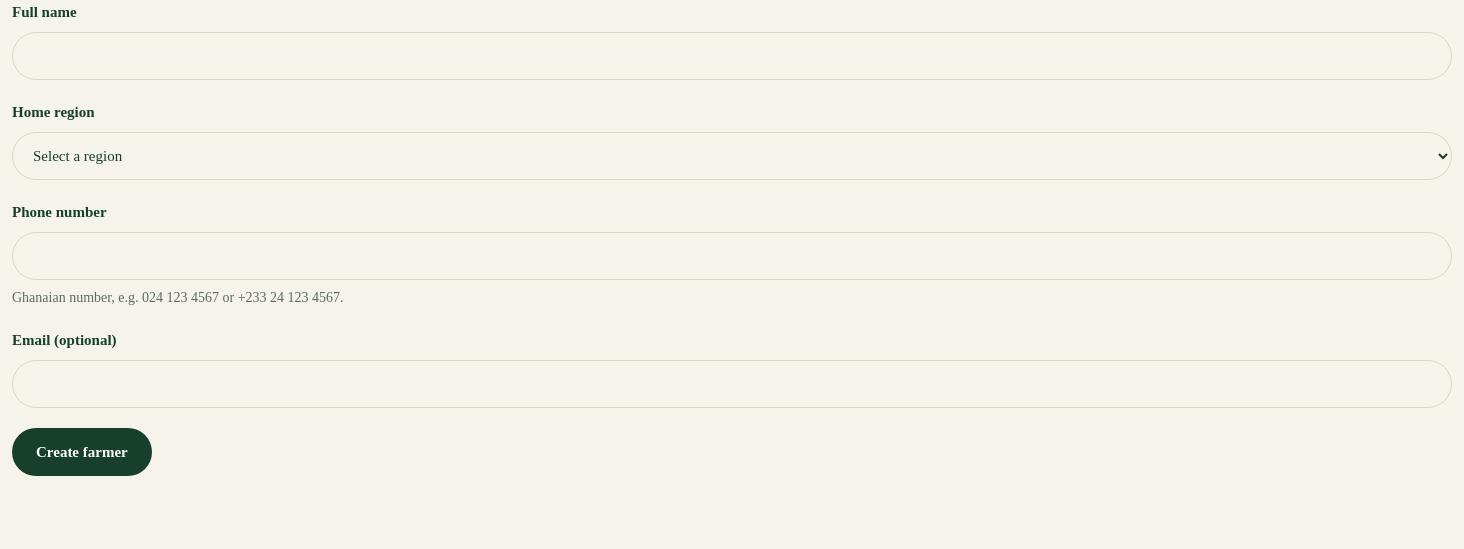
Test: CreateFarmerForm › shows required-field errors and does not submit an empty form
Click the button "Create farmer" at (82, 452), box [12, 428, 152, 476]
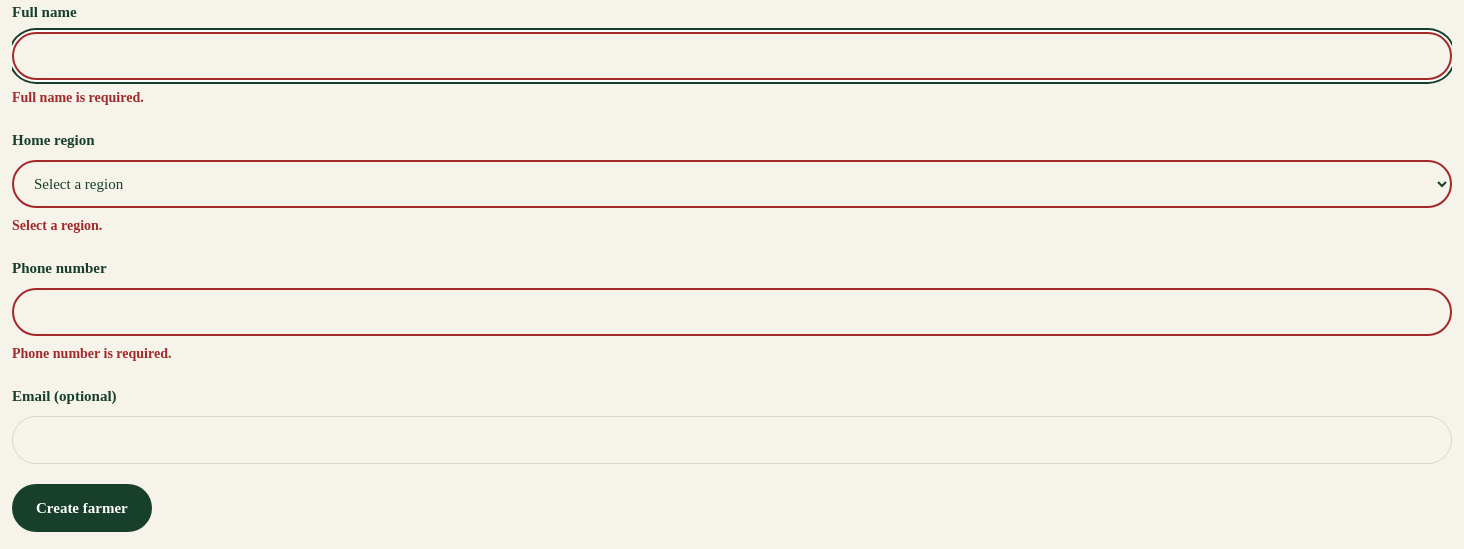
Expected: the text "Full name is required." is shown, [12, 90, 144, 105]
Expected: the text "Select a region." is shown, [12, 218, 102, 233]
Expected: the text "Phone number is required." is shown, [12, 346, 172, 361]
